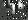person: (3, 2, 10, 13), (10, 4, 15, 15), (19, 1, 25, 10)
